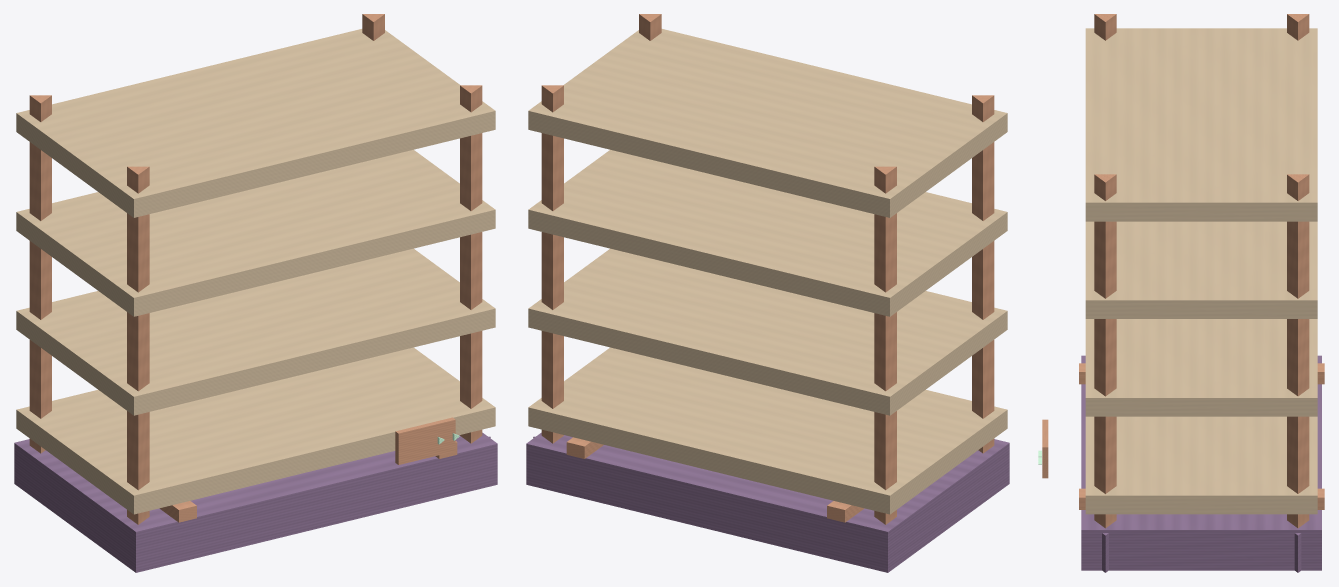
The model's file is atlas100-s088-a06.lod1.glb.
3 views of the same model, side by side, from view 1: azimuth 30°, elevation 25°; view 2: azimuth 150°, elevation 25°; view 3: azimuth 270°, elevation 25° (orthographic).
Visible parts, largest first — view 1: atlas100-s088-a06:part-014, atlas100-s088-a06:part-013, atlas100-s088-a06:part-012, atlas100-s088-a06:part-011, atlas100-s088-a06:part-000, atlas100-s088-a06:part-005, atlas100-s088-a06:part-009, atlas100-s088-a06:part-003, atlas100-s088-a06:part-015; view 2: atlas100-s088-a06:part-014, atlas100-s088-a06:part-011, atlas100-s088-a06:part-013, atlas100-s088-a06:part-012, atlas100-s088-a06:part-000, atlas100-s088-a06:part-003, atlas100-s088-a06:part-007, atlas100-s088-a06:part-005; view 3: atlas100-s088-a06:part-014, atlas100-s088-a06:part-011, atlas100-s088-a06:part-012, atlas100-s088-a06:part-013, atlas100-s088-a06:part-000, atlas100-s088-a06:part-009, atlas100-s088-a06:part-007, atlas100-s088-a06:part-005, atlas100-s088-a06:part-003, atlas100-s088-a06:part-015.
Boxes of the visible parts, x1,y1,x2,y2 form: atlas100-s088-a06:part-014: [16, 29, 495, 217]; atlas100-s088-a06:part-013: [16, 149, 495, 316]; atlas100-s088-a06:part-012: [16, 248, 495, 415]; atlas100-s088-a06:part-011: [16, 347, 495, 514]; atlas100-s088-a06:part-000: [14, 432, 497, 572]; atlas100-s088-a06:part-005: [127, 166, 149, 524]; atlas100-s088-a06:part-009: [460, 85, 482, 443]; atlas100-s088-a06:part-003: [29, 95, 51, 453]; atlas100-s088-a06:part-015: [395, 417, 455, 464]; atlas100-s088-a06:part-014: [528, 29, 1007, 217]; atlas100-s088-a06:part-011: [528, 347, 1007, 514]; atlas100-s088-a06:part-013: [528, 149, 1007, 316]; atlas100-s088-a06:part-012: [528, 248, 1007, 415]; atlas100-s088-a06:part-000: [526, 432, 1009, 572]; atlas100-s088-a06:part-003: [874, 166, 896, 524]; atlas100-s088-a06:part-007: [541, 85, 563, 443]; atlas100-s088-a06:part-005: [972, 95, 994, 453]; atlas100-s088-a06:part-014: [1085, 28, 1317, 221]; atlas100-s088-a06:part-011: [1085, 416, 1317, 514]; atlas100-s088-a06:part-012: [1085, 319, 1317, 416]; atlas100-s088-a06:part-013: [1085, 221, 1317, 318]; atlas100-s088-a06:part-000: [1081, 355, 1321, 570]; atlas100-s088-a06:part-009: [1094, 174, 1116, 528]; atlas100-s088-a06:part-007: [1287, 174, 1309, 528]; atlas100-s088-a06:part-005: [1094, 14, 1116, 40]; atlas100-s088-a06:part-003: [1287, 14, 1309, 40]; atlas100-s088-a06:part-015: [1042, 419, 1048, 478].
Bounding box in the file's own units: 2.43 × 2.48 × 1.66.
Materials: 4 (4 with a texture image).
